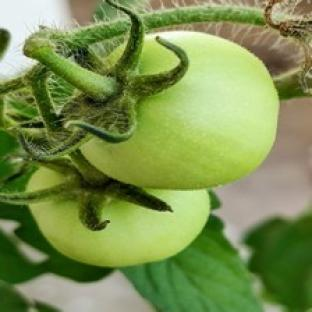Tomato: (81, 31, 278, 189), (30, 190, 210, 267)
